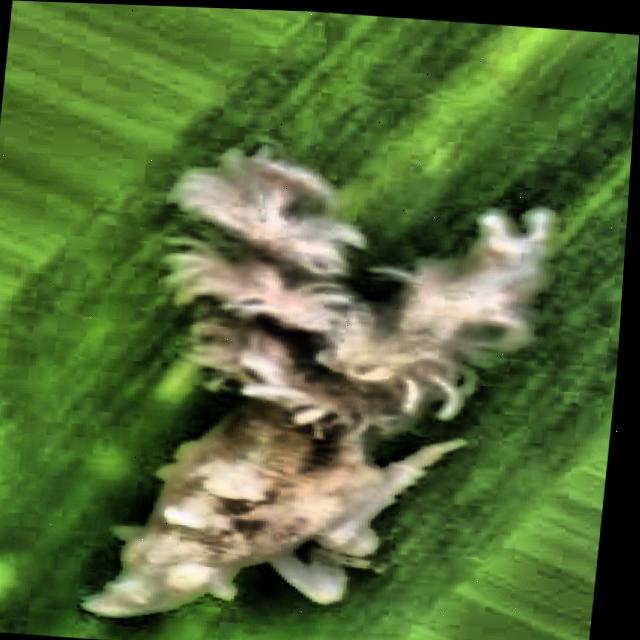Pyrilla-perpusilla: (11, 137, 591, 640)
